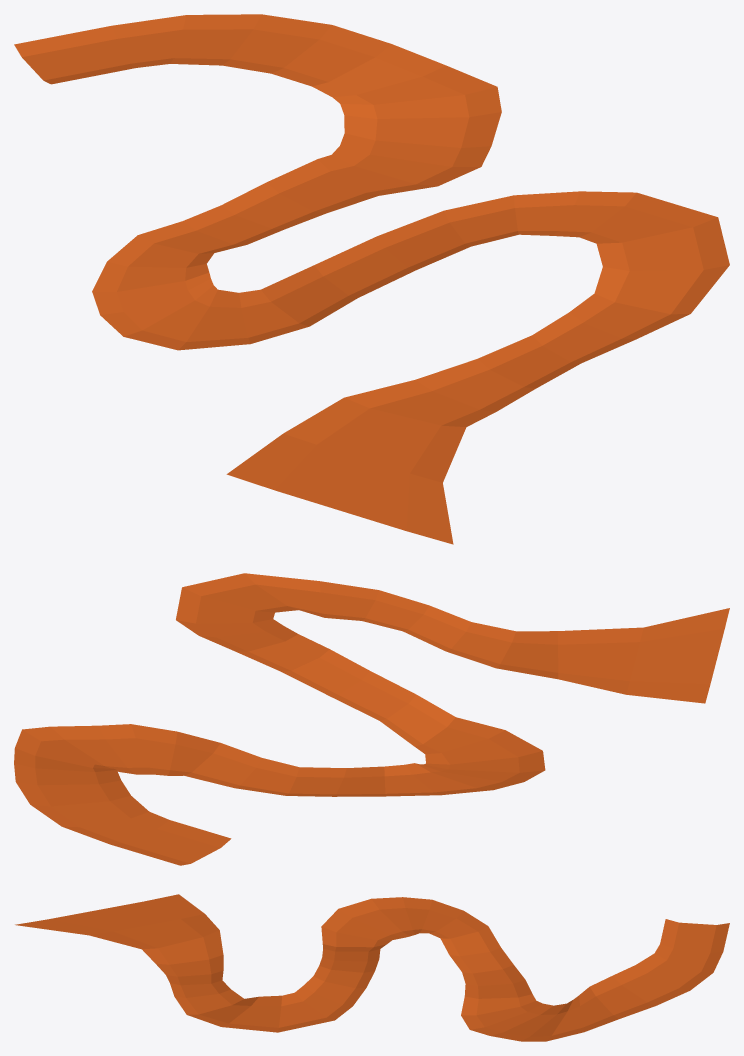
The model's file is level1_path.fbx.
The picture shows the model from 3 angles, top to bottom: view 1: azimuth 30°, elevation 25°; view 2: azimuth 150°, elevation 25°; view 3: azimuth 270°, elevation 25°; orthographic projection. The views are drawn at different scales.
Parts seen in each view (by area): view 1: Plane; view 2: Plane; view 3: Plane.
Part boxes in pixels (x1,y1,x2,y2): Plane: (14,14,729,544); Plane: (14,573,729,865); Plane: (15,894,729,1041).
Size of the model in its own units: 1787 by 201 by 3041.
